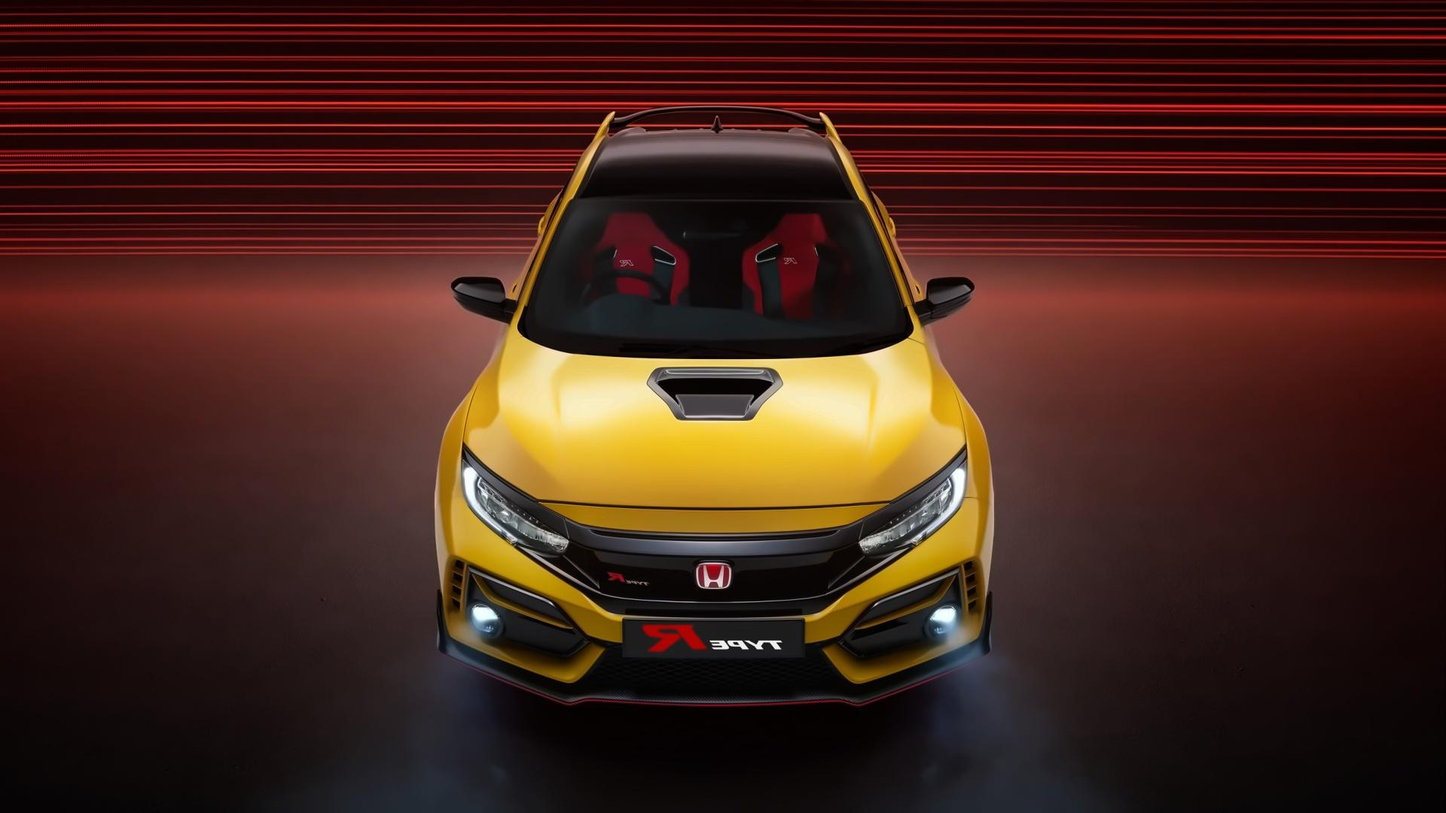Car hood: (461, 323, 969, 539)
Front bumper: (422, 522, 1004, 713)
Headlight - -L-: (850, 443, 977, 564)
Headlight - -R-: (457, 437, 578, 563)
Side mirror - -L-: (904, 265, 982, 334)
Side mirror - -R-: (438, 267, 525, 332)
